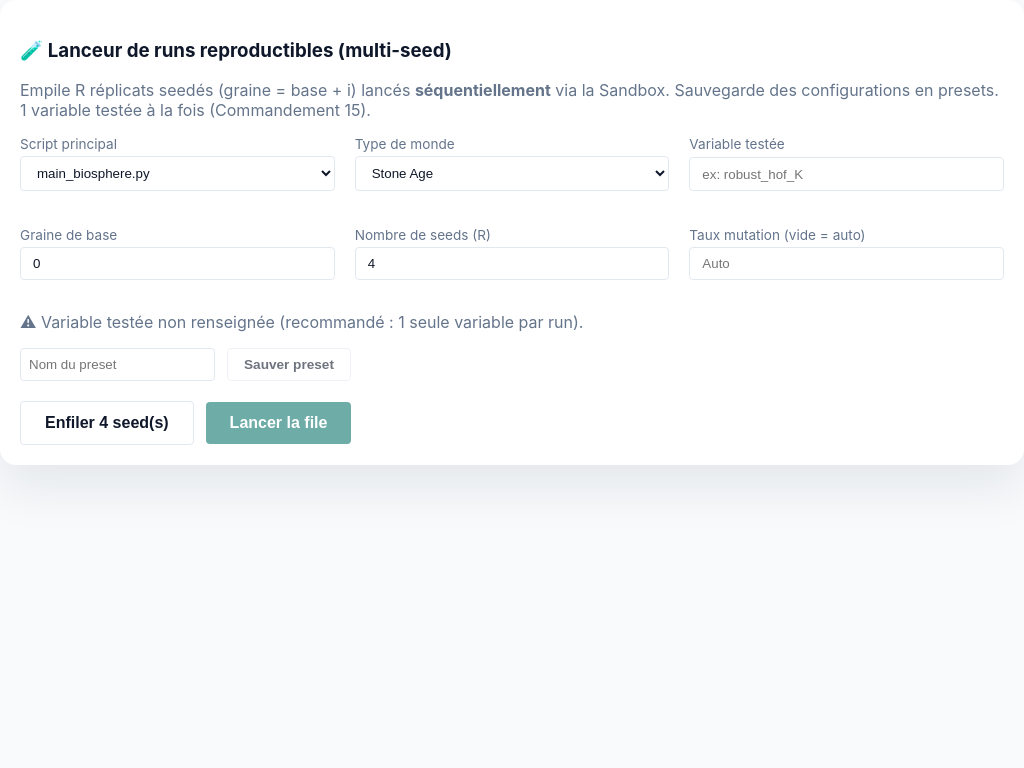
le bouton Enfiler ajoute n_seeds badges pending à la file
The width and height of the screenshot is (1024, 768).
Click the button "Enfiler 4 seed(s)": (107, 423) left=20, top=401, right=194, bottom=445
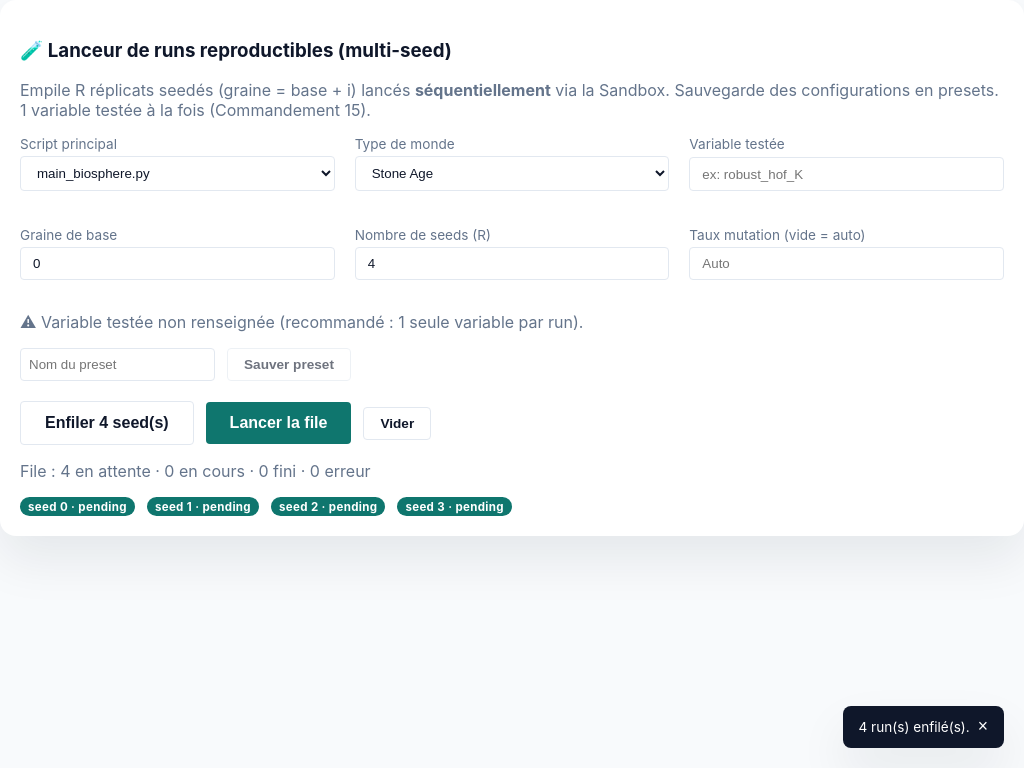
Expected: the text "seed 0 · pending" is shown 4 times, left=20, top=497, right=135, bottom=516; left=147, top=497, right=259, bottom=516; left=271, top=497, right=385, bottom=516; left=397, top=497, right=512, bottom=516
